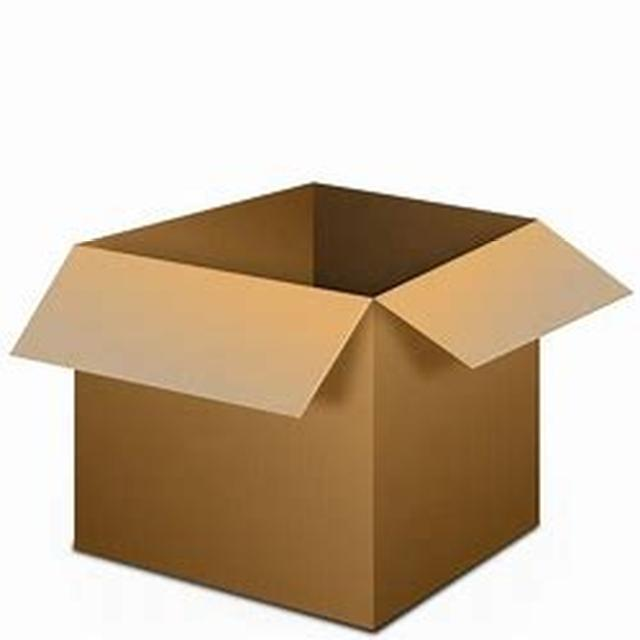box: (45, 186, 569, 602)
